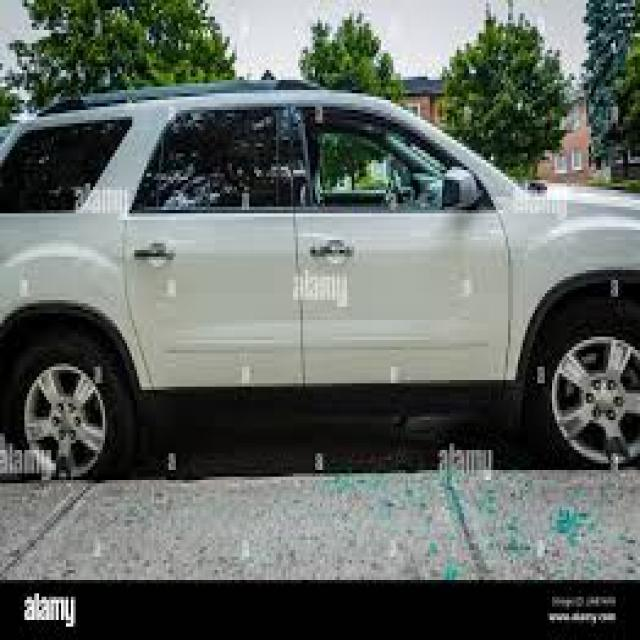damaged-window: (291, 105, 475, 213)
